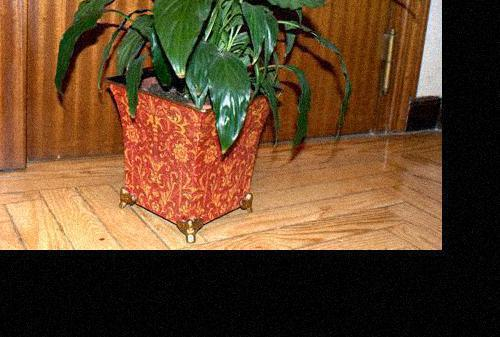Matera: (38, 0, 421, 241)
